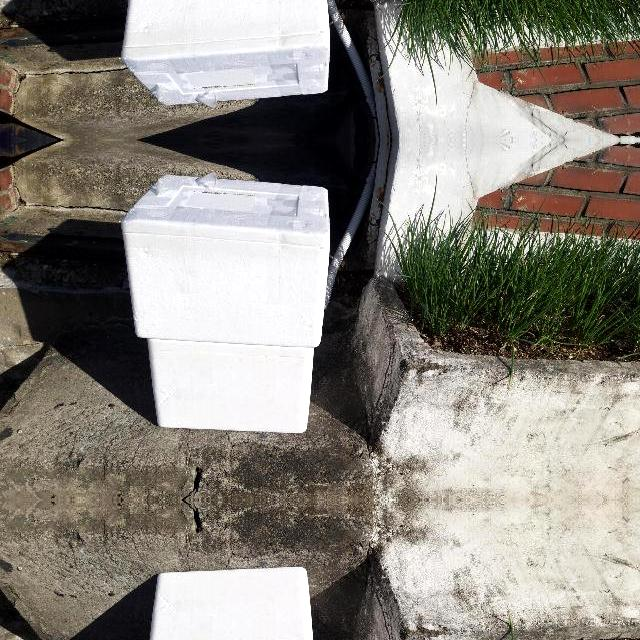Styrofoam: (120, 172, 330, 348), (121, 173, 330, 347), (120, 0, 330, 108), (121, 0, 330, 107), (150, 337, 314, 433), (148, 339, 314, 433), (149, 567, 314, 640), (150, 567, 313, 640)
